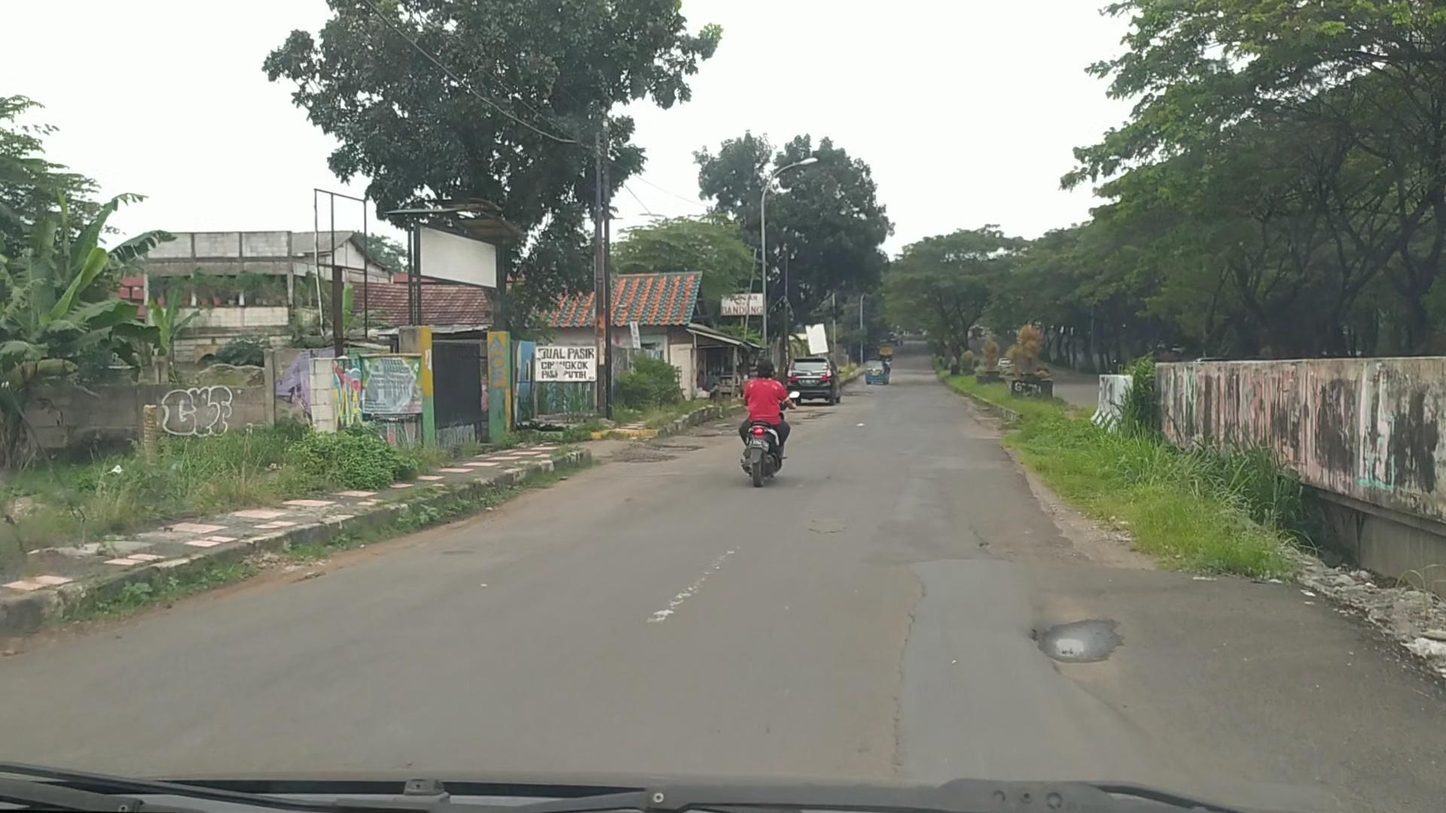pothole: (1032, 613, 1126, 666)
